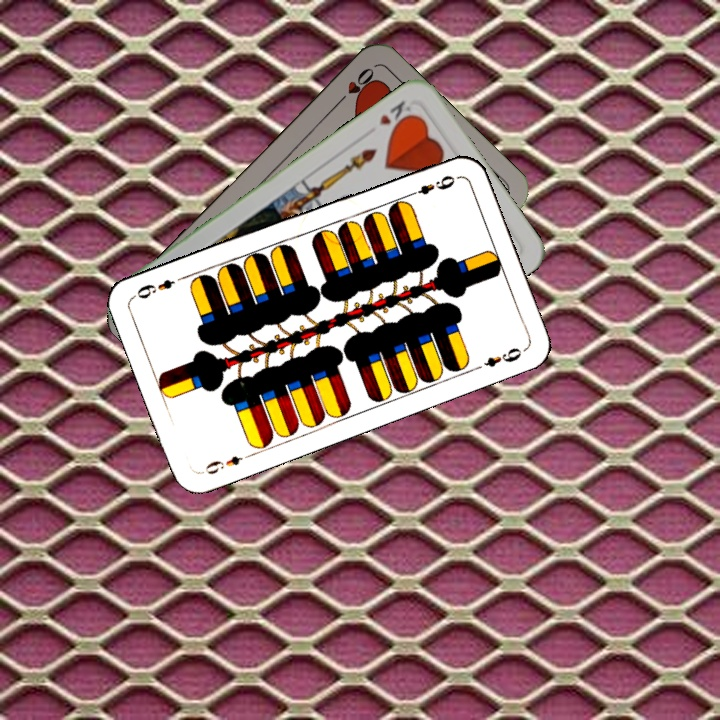E9: (198, 449, 255, 477), (403, 171, 458, 200)
HK: (374, 96, 416, 133)
HO: (330, 63, 377, 110)
